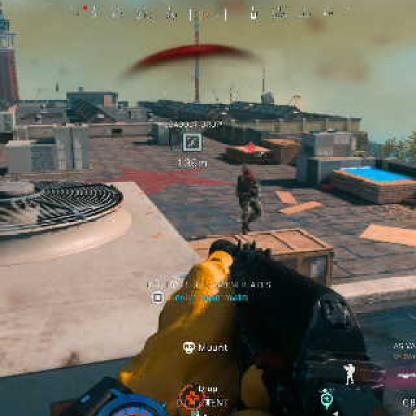enemy: (233, 164, 262, 230)
